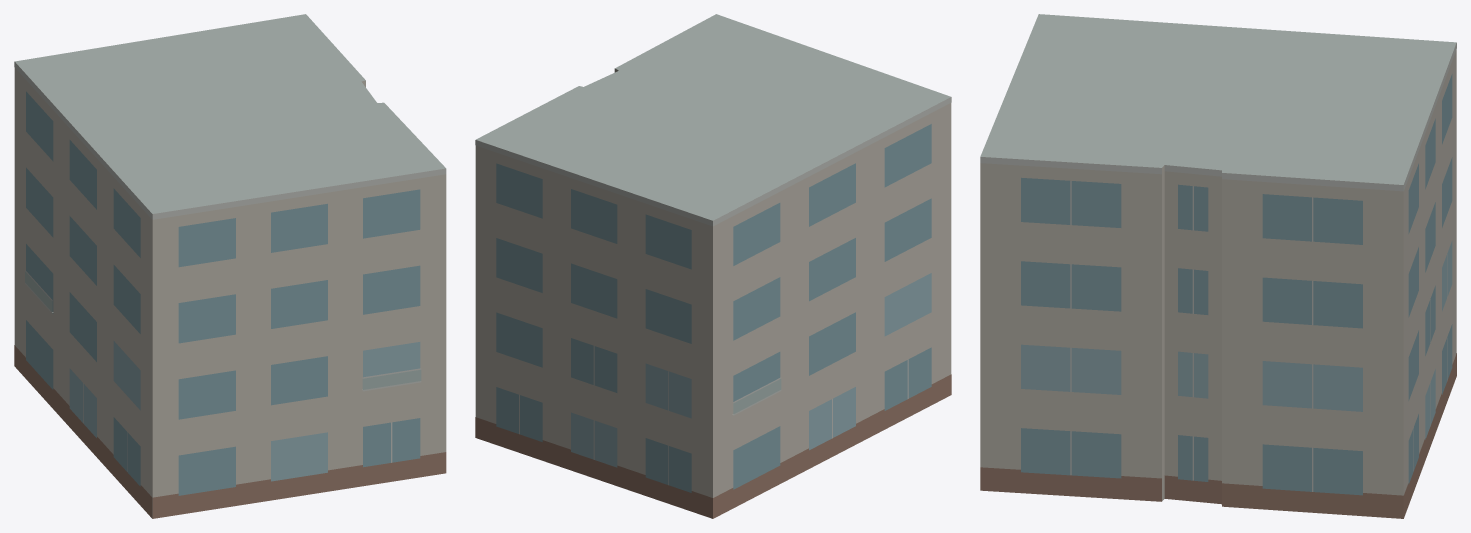
The model's file is survey-upis-32734304.glb.
3 views of the same model, side by side, from view 1: azimuth 30°, elevation 25°; view 2: azimuth 150°, elevation 25°; view 3: azimuth 270°, elevation 25° (orthographic). The views are drawn at different scales.
Parts seen in each view (by area): view 1: survey-upis-32734304.tmp; view 2: survey-upis-32734304.tmp; view 3: survey-upis-32734304.tmp.
Part boxes in pixels (<box>): survey-upis-32734304.tmp: <box>14,14,446,518</box>; survey-upis-32734304.tmp: <box>475,14,951,518</box>; survey-upis-32734304.tmp: <box>980,14,1456,518</box>.
Bounding box in the file's own units: 14.19 × 12.9 × 16.7.
